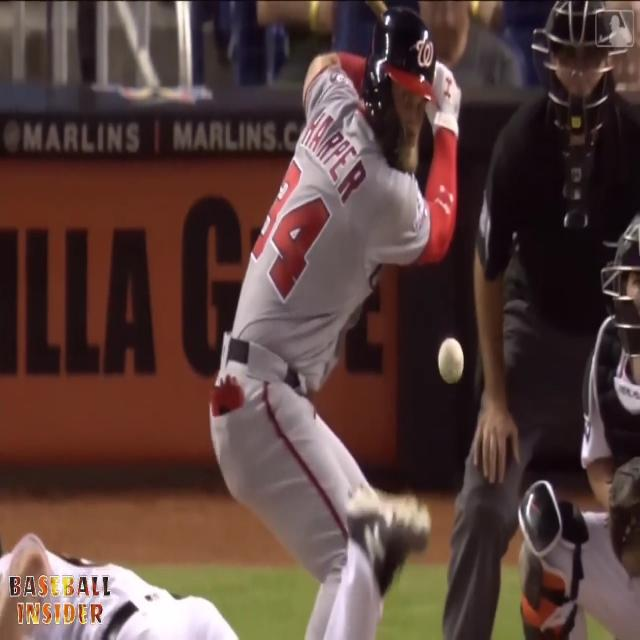baseball: (438, 337, 464, 384)
